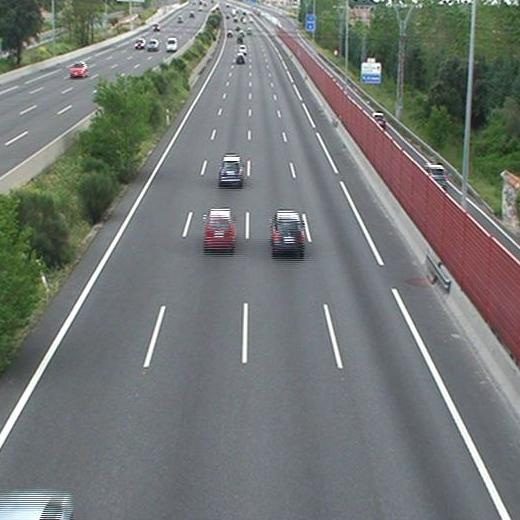car: (272, 211, 305, 252), (205, 210, 235, 250), (219, 156, 244, 183), (236, 53, 245, 62), (237, 45, 246, 53)
